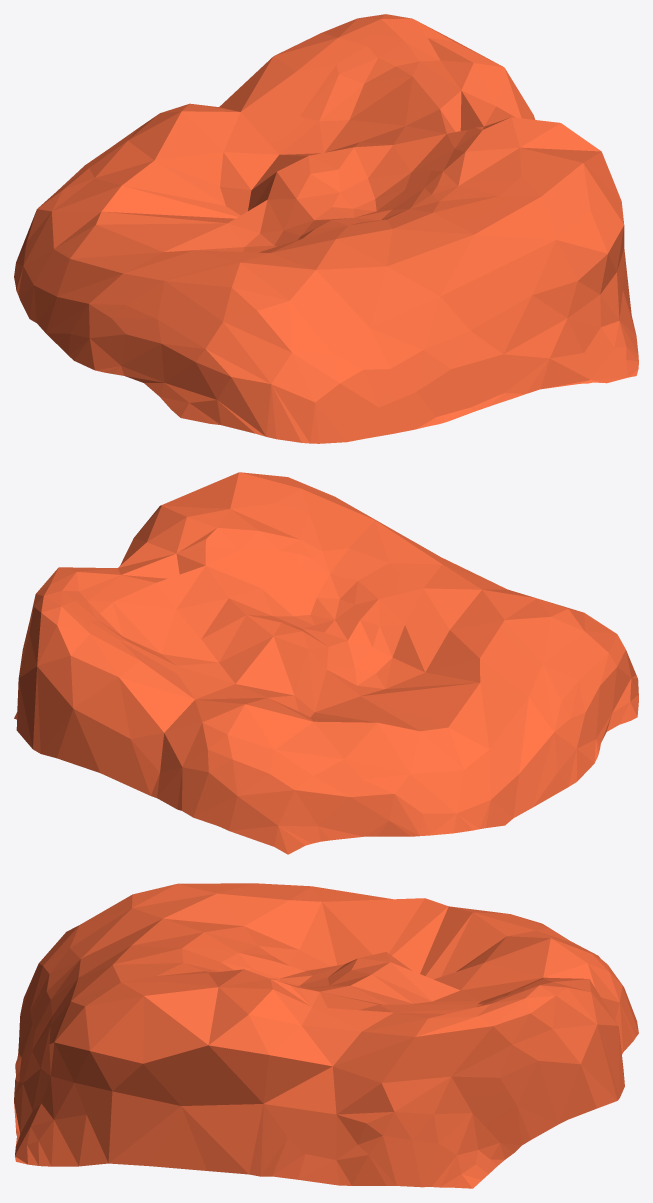
Rendered from ground_045.fbx.
3 renders of one model, top to bottom at view 1: azimuth 30°, elevation 25°; view 2: azimuth 150°, elevation 25°; view 3: azimuth 270°, elevation 25°, orthographic. The views are drawn at different scales.
Visible parts, largest first — view 1: ground.045; view 2: ground.045; view 3: ground.045.
Boxes of the visible parts, x1,y1,x2,y2 form: ground.045: (14,14,638,443); ground.045: (14,472,638,854); ground.045: (14,883,638,1188).
Size of the model in its own units: 2343 by 748 by 2399.
Materials: 1 (1 with a texture image).
